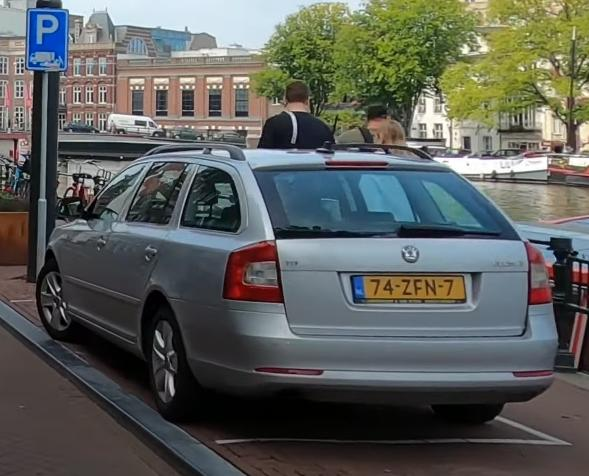license-plate: (349, 275, 469, 305)
